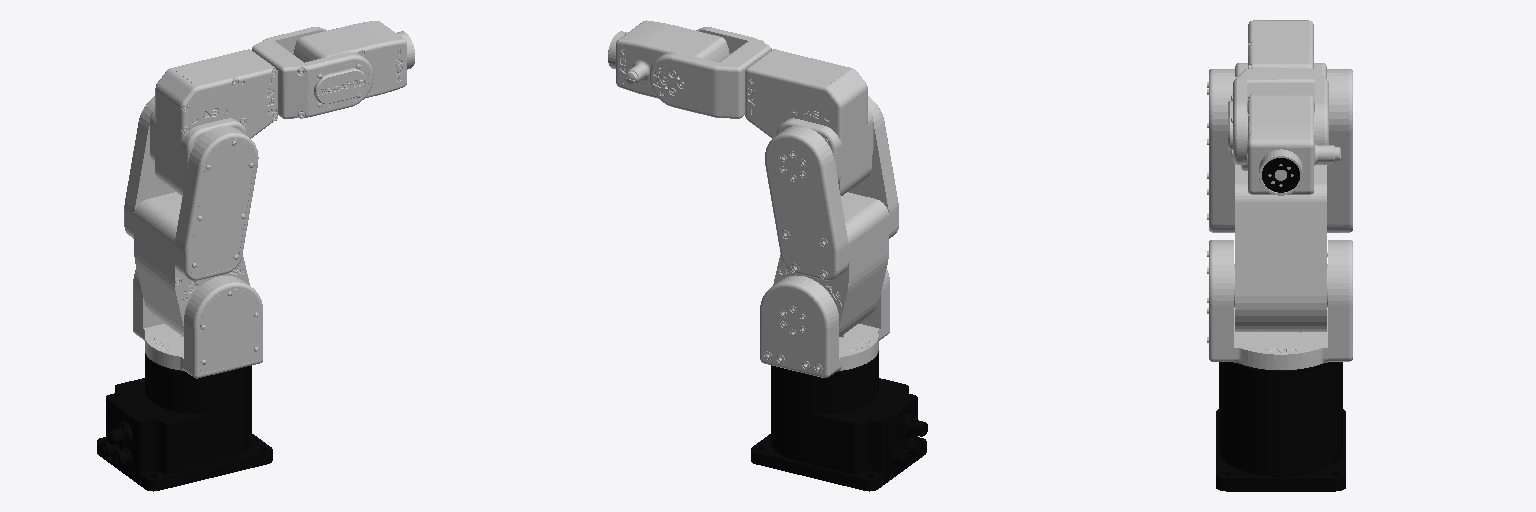
The robot description file, URDF, robot "meca_500_r3":
<?xml version="1.0" encoding="utf-8"?>
<!-- =================================================================================== -->
<!-- |    This document was autogenerated by xacro from meca_500_r3.urdf.xacro         | -->
<!-- |    EDITING THIS FILE BY HAND IS NOT RECOMMENDED                                 | -->
<!-- =================================================================================== -->
<robot name="meca_500_r3">
  <!-- Base link is the center of the robot's bottom plate -->
  <link name="meca_base_link">
    <visual>
      <origin rpy="0 0 0" xyz="0 0 0"/>
      <geometry>
        <mesh filename="package://mecademic_description/meshes/meca_500_r3_base.dae"/>
      </geometry>
    </visual>
    <collision>
      <origin rpy="0 0 0" xyz="0 0 0"/>
      <geometry>
        <mesh filename="package://mecademic_description/meshes/meca_500_r3_base_collision.stl"/>
      </geometry>
    </collision>
  </link>
  <!-- Joint 1 -->
  <link name="meca_axis_1_link">
    <visual>
      <origin rpy="0 0 0" xyz="0 0 0"/>
      <geometry>
        <mesh filename="package://mecademic_description/meshes/meca_500_r3_j1.dae"/>
      </geometry>
    </visual>
    <collision>
      <origin rpy="0 0 0" xyz="0 0 0"/>
      <geometry>
        <mesh filename="package://mecademic_description/meshes/meca_500_r3_j1_collision.stl"/>
      </geometry>
    </collision>
  </link>
  <joint name="meca_axis_1_joint" type="revolute">
    <origin rpy="0 0 0" xyz="0.012498 0 0.091"/>
    <parent link="meca_base_link"/>
    <child link="meca_axis_1_link"/>
    <axis xyz="0 0 1"/>
    <limit effort="10.0" lower="-3.05433" upper="3.05433" velocity="2.61799"/>
  </joint>
  <!-- Joint 2 -->
  <link name="meca_axis_2_link">
    <visual>
      <origin rpy="0 0 0" xyz="0 0 0"/>
      <geometry>
        <mesh filename="package://mecademic_description/meshes/meca_500_r3_j2.dae"/>
      </geometry>
    </visual>
    <collision>
      <origin rpy="0 0 0" xyz="0 0 0"/>
      <geometry>
        <mesh filename="package://mecademic_description/meshes/meca_500_r3_j2_collision.stl"/>
      </geometry>
    </collision>
  </link>
  <joint name="meca_axis_2_joint" type="revolute">
    <origin rpy="0 0 0" xyz="0 0 0.044"/>
    <parent link="meca_axis_1_link"/>
    <child link="meca_axis_2_link"/>
    <axis xyz="0 1 0"/>
    <limit effort="10.0" lower="-1.22173048" upper="1.5708" velocity="2.61799"/>
  </joint>
  <!-- Joint 3 -->
  <link name="meca_axis_3_link">
    <visual>
      <origin rpy="0 0 0" xyz="0 0 0"/>
      <geometry>
        <mesh filename="package://mecademic_description/meshes/meca_500_r3_j3.dae"/>
      </geometry>
    </visual>
    <collision>
      <origin rpy="0 0 0" xyz="0 0 0"/>
      <geometry>
        <mesh filename="package://mecademic_description/meshes/meca_500_r3_j3_collision.stl"/>
      </geometry>
    </collision>
  </link>
  <joint name="meca_axis_3_joint" type="revolute">
    <origin rpy="0 0 0" xyz="0 0 0.135"/>
    <parent link="meca_axis_2_link"/>
    <child link="meca_axis_3_link"/>
    <axis xyz="0 1 0"/>
    <limit effort="10.0" lower="-2.35619" upper="1.22173048" velocity="3.14159"/>
  </joint>
  <!-- Joint 4 -->
  <link name="meca_axis_4_link">
    <visual>
      <origin rpy="0 0 0" xyz="0 0 0"/>
      <geometry>
        <mesh filename="package://mecademic_description/meshes/meca_500_r3_j4.dae"/>
      </geometry>
    </visual>
    <collision>
      <origin rpy="0 0 0" xyz="0 0 0"/>
      <geometry>
        <mesh filename="package://mecademic_description/meshes/meca_500_r3_j4_collision.stl"/>
      </geometry>
    </collision>
  </link>
  <joint name="meca_axis_4_joint" type="revolute">
    <origin rpy="0 0 0" xyz="0 0 0.038"/>
    <parent link="meca_axis_3_link"/>
    <child link="meca_axis_4_link"/>
    <axis xyz="1 0 0"/>
    <limit effort="10.0" lower="-2.96706" upper="2.96706" velocity="5.23599"/>
  </joint>
  <!-- Joint 5 -->
  <link name="meca_axis_5_link">
    <visual>
      <origin rpy="0 0 0" xyz="0 0 0"/>
      <geometry>
        <mesh filename="package://mecademic_description/meshes/meca_500_r3_j5.dae"/>
      </geometry>
    </visual>
    <collision>
      <origin rpy="0 0 0" xyz="0 0 0"/>
      <geometry>
        <mesh filename="package://mecademic_description/meshes/meca_500_r3_j5_collision.stl"/>
      </geometry>
    </collision>
  </link>
  <joint name="meca_axis_5_joint" type="revolute">
    <origin rpy="0 0 0" xyz="0.12 0 0"/>
    <parent link="meca_axis_4_link"/>
    <child link="meca_axis_5_link"/>
    <axis xyz="0 1 0"/>
    <limit effort="10.0" lower="-2.00713" upper="2.00713" velocity="5.23599"/>
  </joint>
  <!-- Joint 6 -->
  <link name="meca_axis_6_link">
    <visual>
      <origin rpy="0 0 0" xyz="0 0 0"/>
      <geometry>
        <mesh filename="package://mecademic_description/meshes/meca_500_r3_j6.dae"/>
      </geometry>
    </visual>
    <collision>
      <origin rpy="0 0 0" xyz="0 0 0"/>
      <geometry>
        <mesh filename="package://mecademic_description/meshes/meca_500_r3_j6_collision.stl"/>
      </geometry>
    </collision>
  </link>
  <joint name="meca_axis_6_joint" type="revolute">
    <origin rpy="0 0 0" xyz="0.07 0 0"/>
    <parent link="meca_axis_5_link"/>
    <child link="meca_axis_6_link"/>
    <axis xyz="1 0 0"/>
    <limit effort="10.0" lower="-3.14159" upper="3.14159" velocity="8.72665"/>
  </joint>
</robot>

--- Render facts (derived) ---
Views: 3 orthographic renders of the robot side by side, from view 1: azimuth 30°, elevation 25°; view 2: azimuth 150°, elevation 25°; view 3: azimuth 270°, elevation 25°.
Model meca_500_r3 with 7 links and 6 joints (6 revolute), rooted at meca_base_link, posed every joint at zero.
Links seen in each view (by area): view 1: meca_axis_2_link, meca_base_link, meca_axis_3_link, meca_axis_1_link, meca_axis_4_link, meca_axis_5_link; view 2: meca_axis_2_link, meca_base_link, meca_axis_3_link, meca_axis_1_link, meca_axis_4_link, meca_axis_5_link; view 3: meca_axis_2_link, meca_base_link, meca_axis_1_link, meca_axis_5_link, meca_axis_4_link, meca_axis_3_link, meca_axis_6_link.
Boxes of the visible links, <box> form: meca_axis_2_link: <box>124,96,258,336</box>; meca_base_link: <box>97,353,272,491</box>; meca_axis_3_link: <box>150,49,277,196</box>; meca_axis_1_link: <box>133,268,262,378</box>; meca_axis_4_link: <box>252,27,373,118</box>; meca_axis_5_link: <box>293,21,414,97</box>; meca_axis_2_link: <box>765,96,898,336</box>; meca_base_link: <box>751,351,927,491</box>; meca_axis_3_link: <box>745,49,873,195</box>; meca_axis_1_link: <box>760,269,889,377</box>; meca_axis_4_link: <box>649,27,771,118</box>; meca_axis_5_link: <box>608,20,729,98</box>; meca_axis_2_link: <box>1207,69,1352,331</box>; meca_base_link: <box>1216,362,1345,491</box>; meca_axis_1_link: <box>1207,240,1352,369</box>; meca_axis_5_link: <box>1247,95,1340,195</box>; meca_axis_4_link: <box>1228,69,1328,164</box>; meca_axis_3_link: <box>1235,20,1326,170</box>; meca_axis_6_link: <box>1262,158,1299,192</box>.
Size in the robot's own frame: 0.276 by 0.1014 by 0.331 metres.
7 mesh visuals loaded from 7 distinct referenced files (7 Collada DAE).